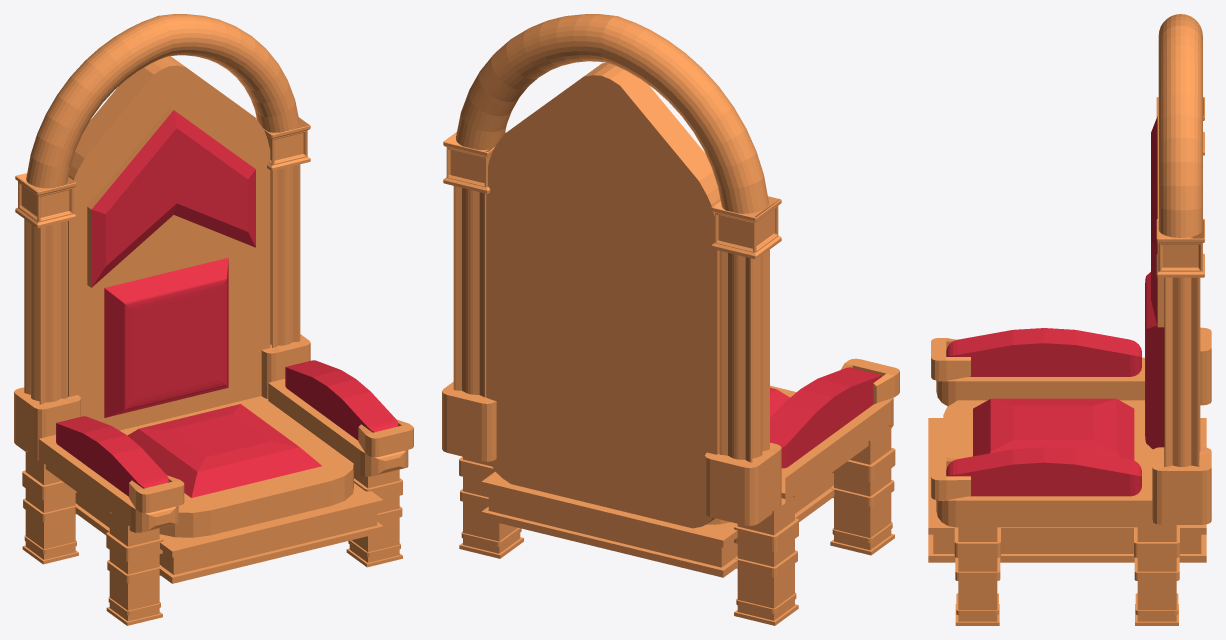
The model's file is Throne.fbx.
3 renders of one model, left to right at view 1: azimuth 30°, elevation 25°; view 2: azimuth 150°, elevation 25°; view 3: azimuth 270°, elevation 25°, orthographic. The views are drawn at different scales.
Visible parts, largest first — view 1: Arc; view 2: Arc; view 3: Arc.
Part boxes in pixels (bbox=[...]): Arc: bbox=[14, 14, 413, 625]; Arc: bbox=[442, 14, 899, 625]; Arc: bbox=[928, 14, 1211, 625].
Bounding box in the file's own units: 407 × 691 × 335.
